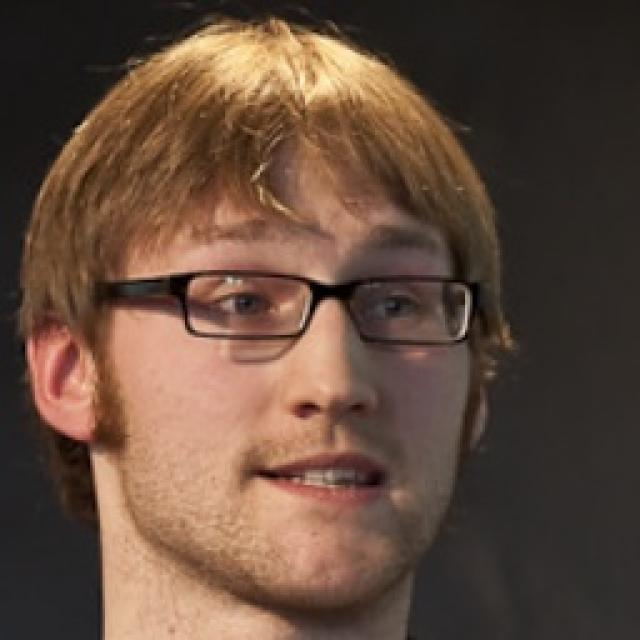glasses: (83, 250, 492, 355)
